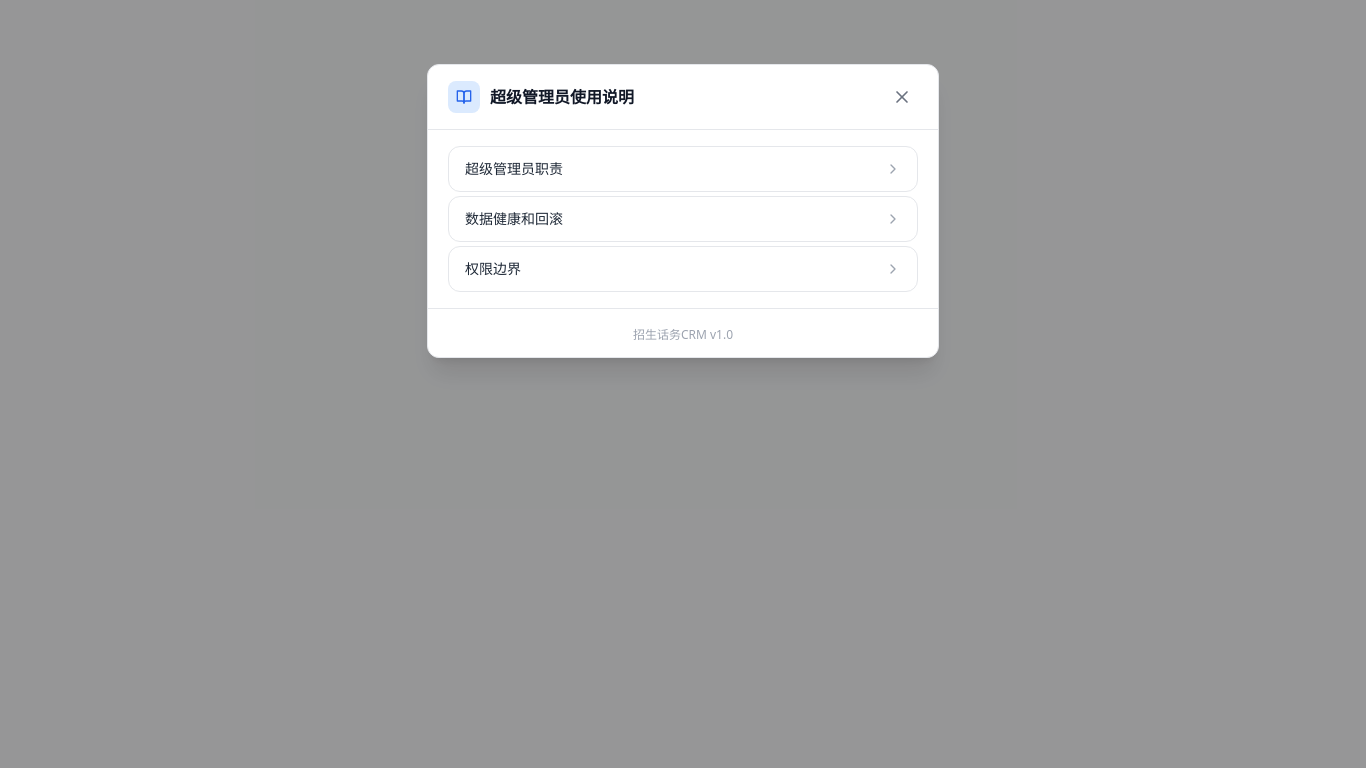
Test case: HelpModal › renders the super admin guide with high-risk operation guidance
This screenshot has width=1366, height=768.
Expected: the heading "超级管理员使用说明" is shown, [490,85,634,109]
Step 1. Click the button "权限边界" → (493, 268), box [449,247,917,291]
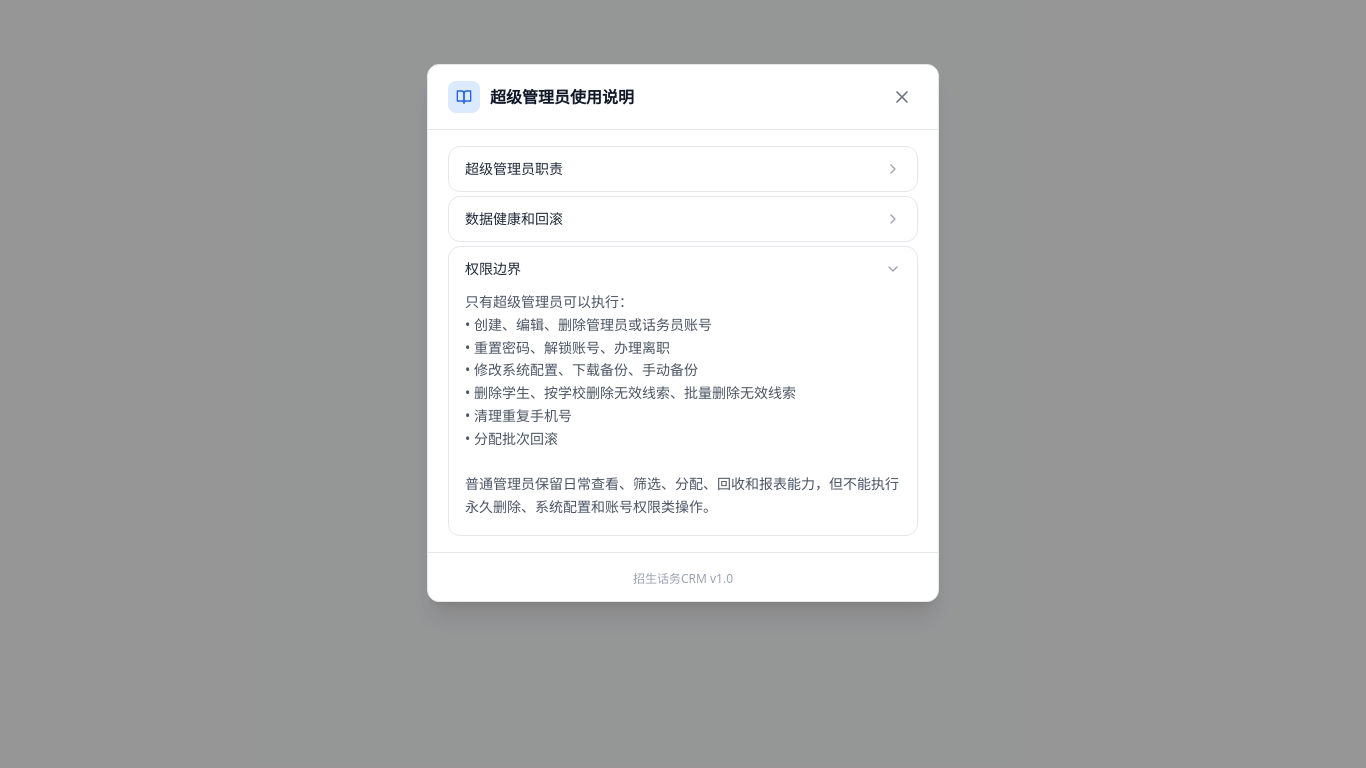
Now the text "分配批次回滚" is shown, box [465,292,899,516]
